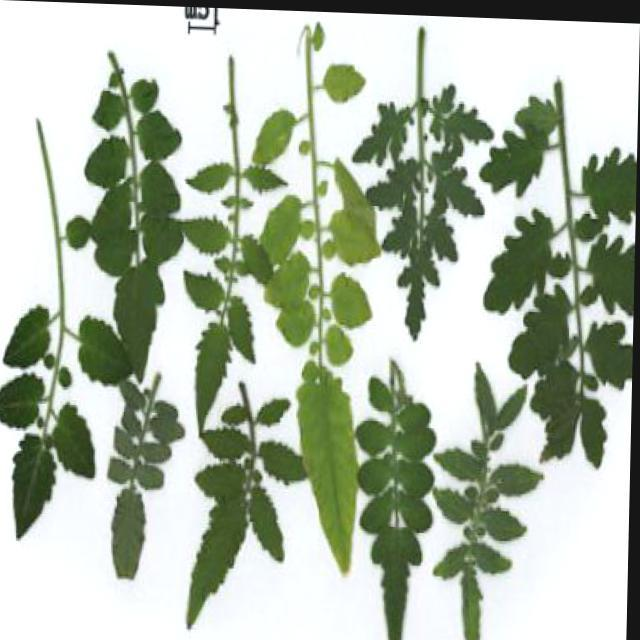Tomato bacterial spot leaf: (290, 364, 366, 576), (319, 254, 382, 346), (317, 39, 377, 116), (323, 151, 378, 233), (325, 203, 379, 274), (260, 186, 300, 274), (254, 100, 302, 172), (266, 260, 316, 320), (273, 296, 322, 354)
